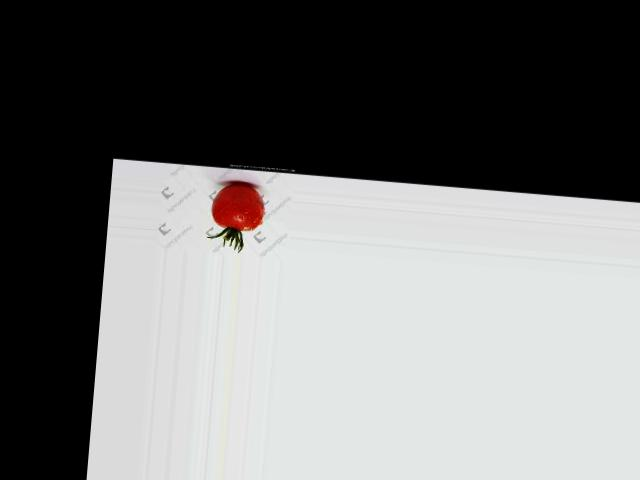tomato: (209, 181, 265, 230)
